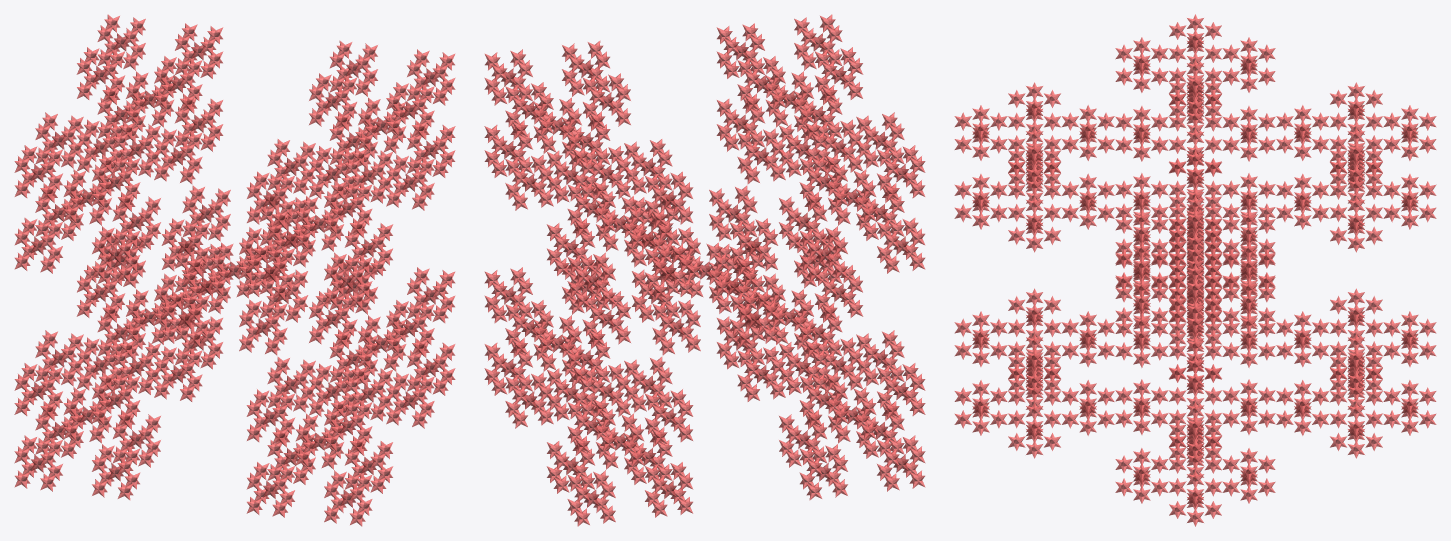
The model's file is fractalgreatdisdyakisdodecahedron3.glb.
The picture shows the model from 3 angles, left to right: view 1: azimuth 30°, elevation 25°; view 2: azimuth 150°, elevation 25°; view 3: azimuth 270°, elevation 25°; orthographic projection. The views are drawn at different scales.
Size of the model in its own units: 10.36 by 7.33 by 10.36.
